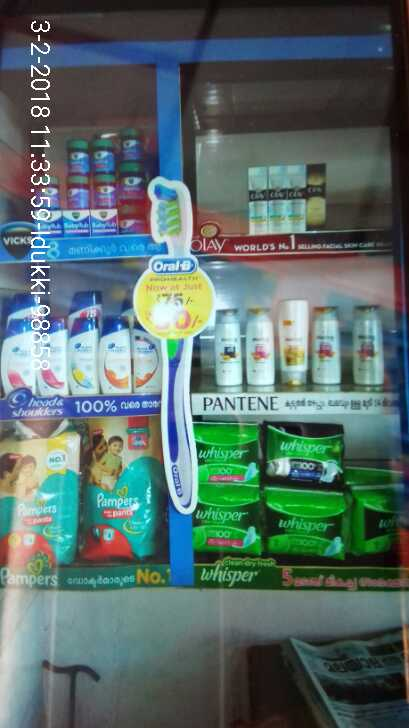vicks: (36, 127, 147, 242)
